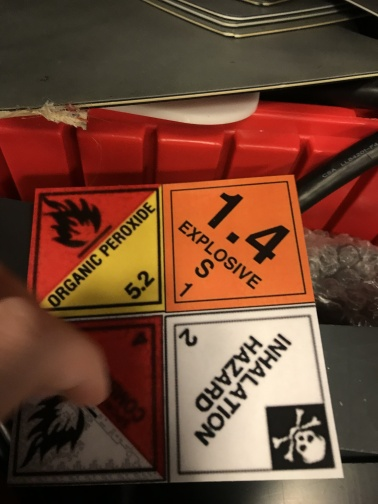Explosive: (162, 174, 314, 313)
InhalationHazard: (167, 309, 344, 485)
OrganicPeroxide: (23, 185, 165, 316)
SpontaneouslyCombustible: (17, 318, 165, 486)
